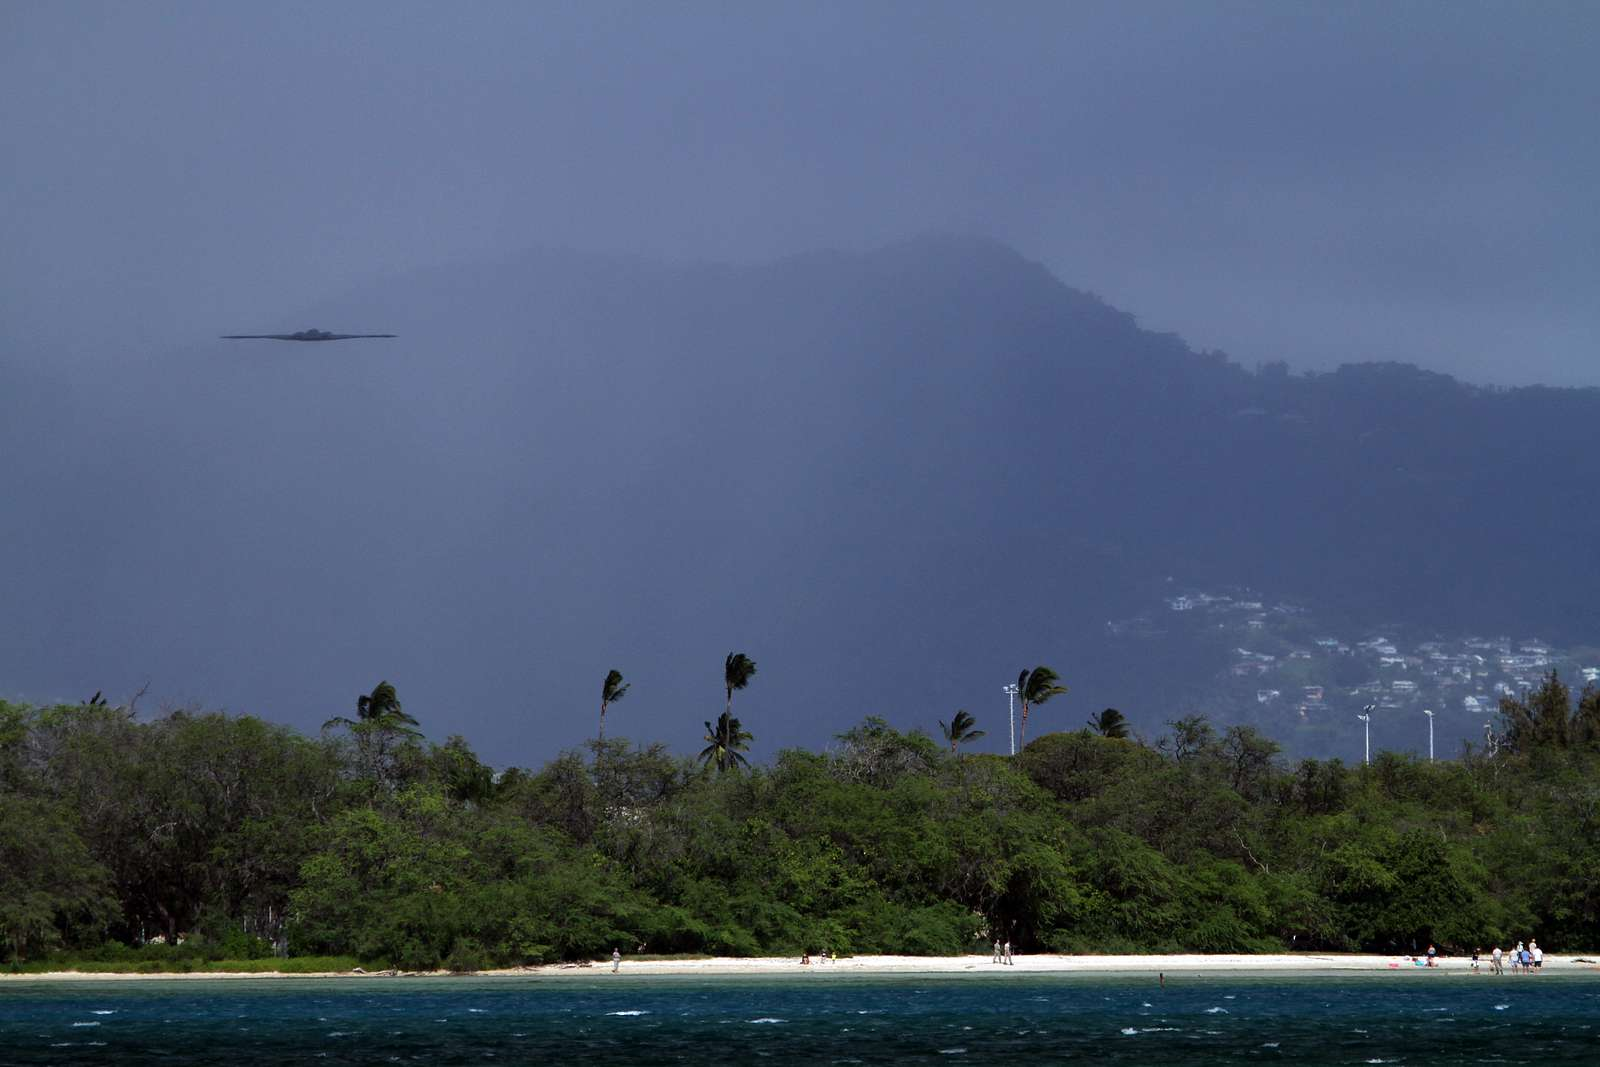B2: (218, 327, 401, 342)
